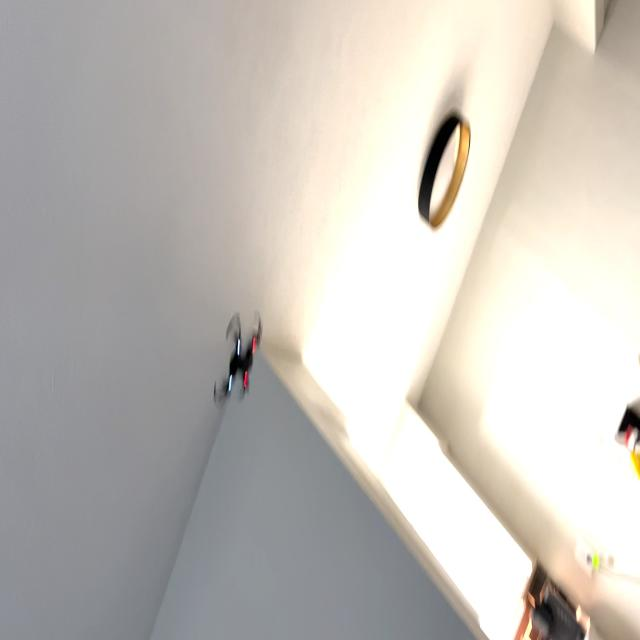drone: (209, 310, 267, 411)
